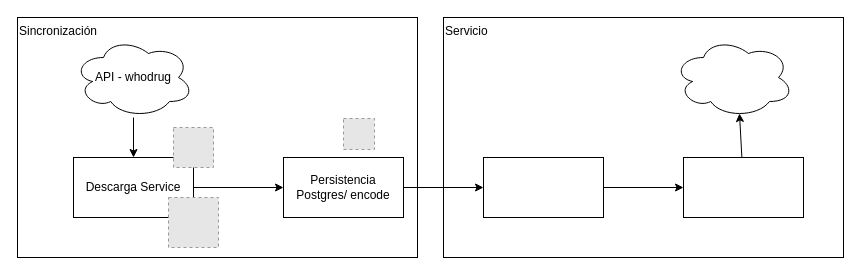
The diagram is 861 pixels wide and 275 high, and some of its shapes have lost their labels. Grey dashed boxes stand in for pictures. Here are the shapes that lost their labels. From the top down, the centre of each, then its label:
At point 733,77: "API - Gateway".
At point 543,187: "Servicio / decode".
At point 743,187: "Exposición / API - REST".
